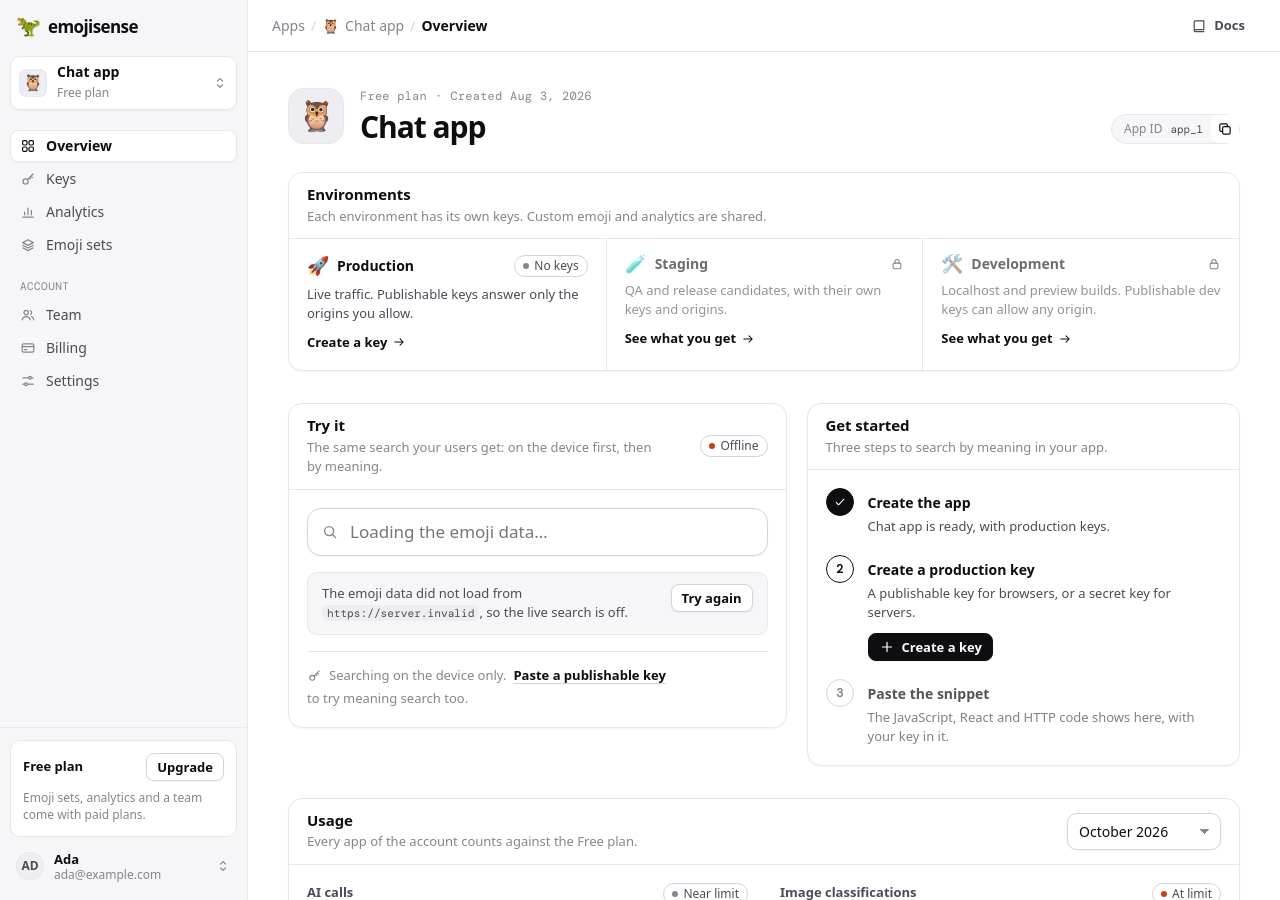
Test: usage › shows meters against the plan limits and reloads for another month
Select "September 2026" in the dropdown named "Month" at (1144, 831), box [1067,813,1221,850]
(page scrolled)
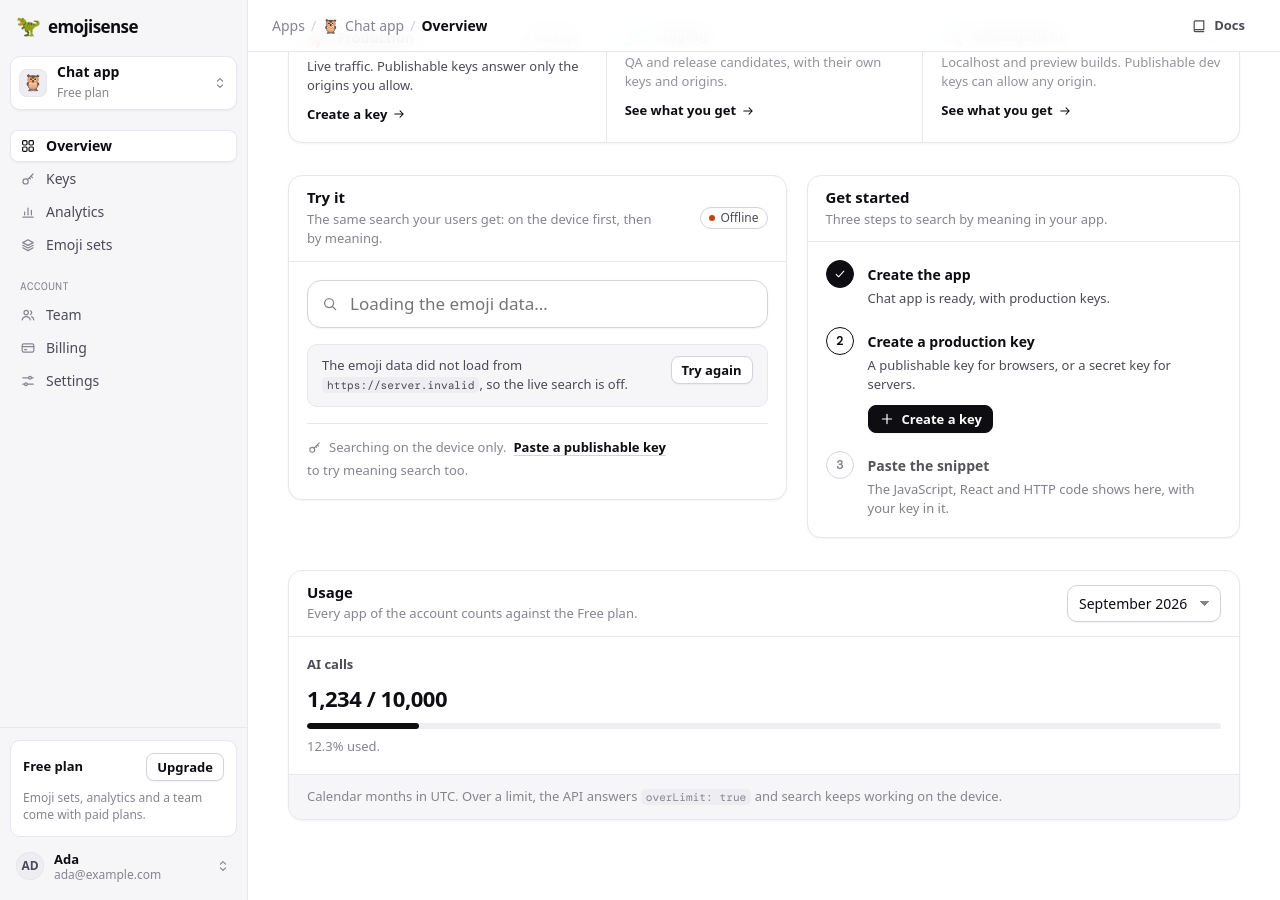
expect the text "1,234 / 10,000" is shown: met, box [307,683,447,713]
